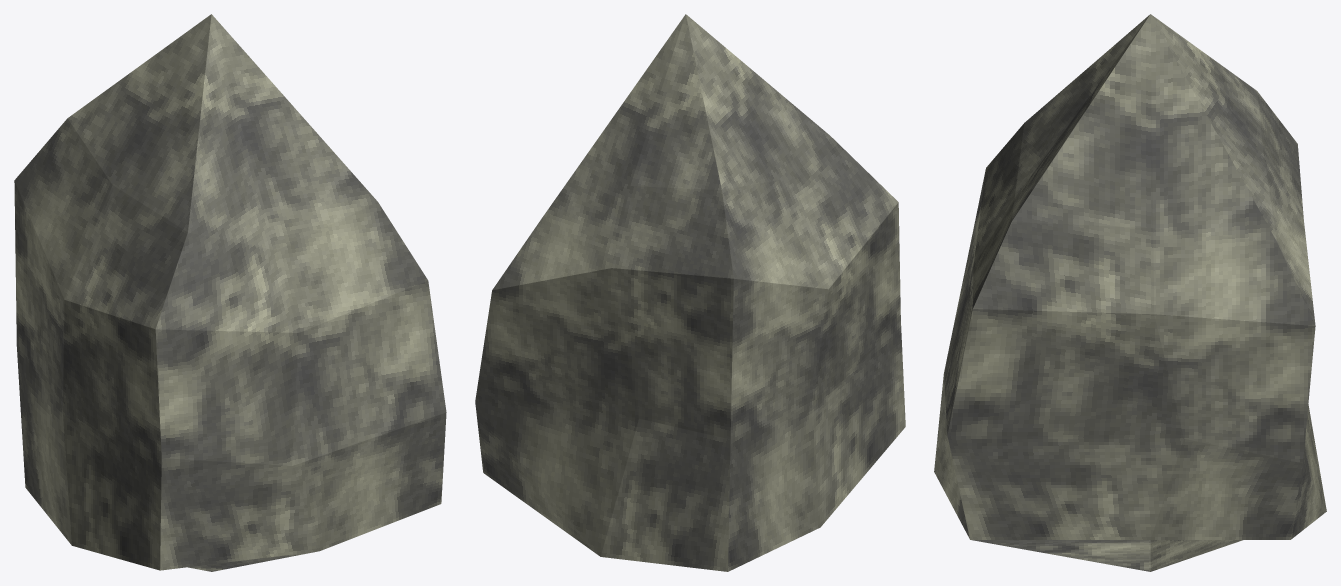
The model's file is Stone_C1.fbx.
3 views of the same model, side by side, from view 1: azimuth 30°, elevation 25°; view 2: azimuth 150°, elevation 25°; view 3: azimuth 270°, elevation 25° (orthographic). The views are drawn at different scales.
Visible parts, largest first — view 1: Stone_C1; view 2: Stone_C1; view 3: Stone_C1.
Boxes of the visible parts, left/top/right/bottom form: Stone_C1: left=14, top=14, right=446, bottom=571; Stone_C1: left=475, top=14, right=905, bottom=571; Stone_C1: left=934, top=14, right=1326, bottom=571.
Size of the model in its own units: 0.3806 by 0.7011 by 0.4474.
